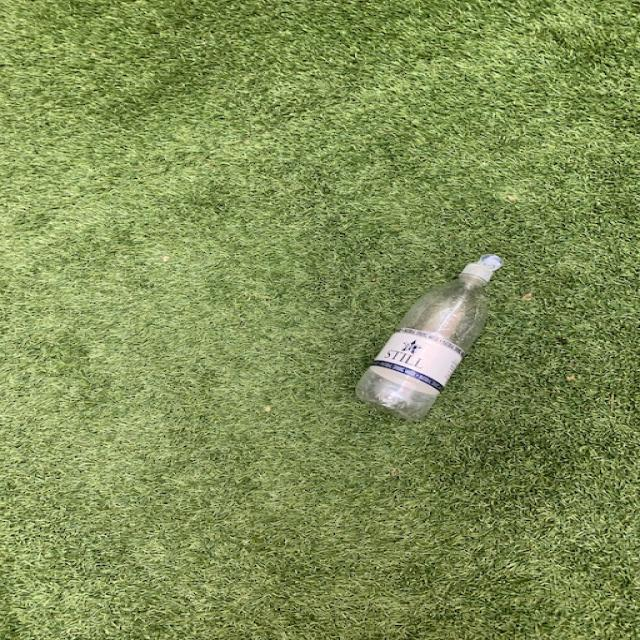litter: (352, 255, 506, 424)
